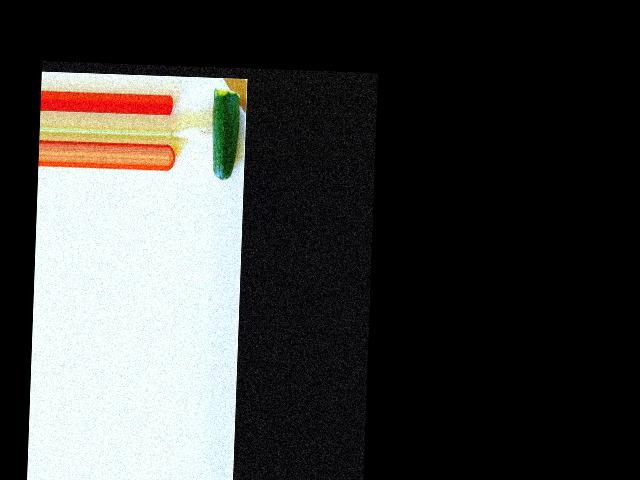cucumber: (211, 88, 241, 181)
